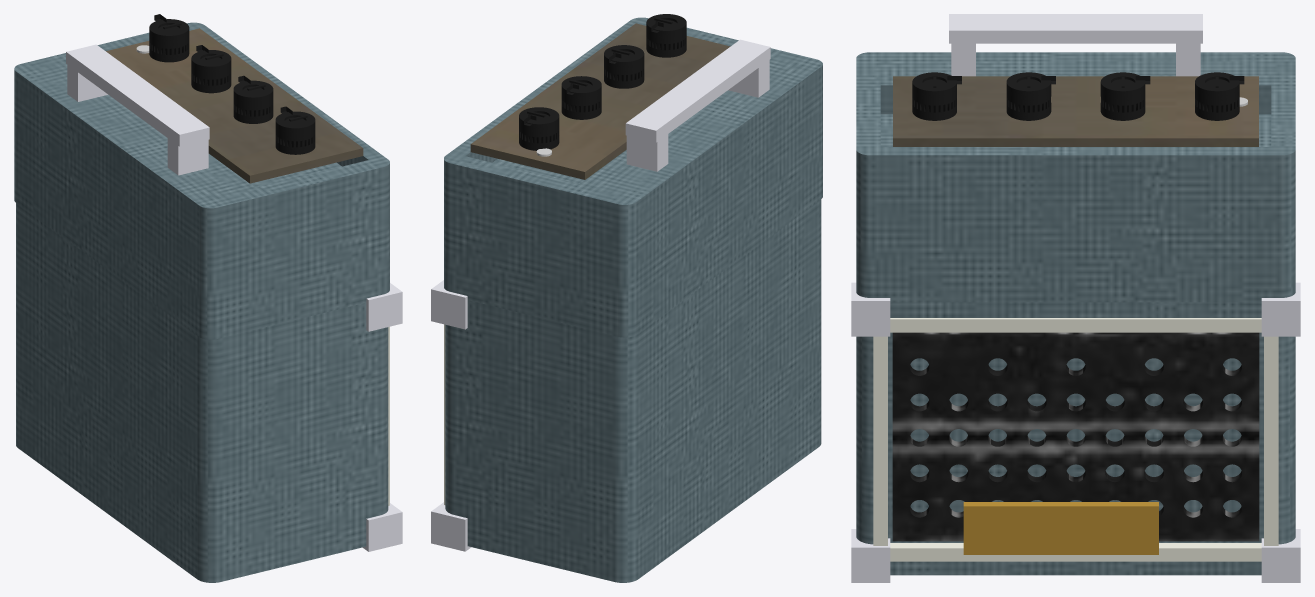
Rendered from Music_Amplifier__0051.glb.
3 views of the same model, side by side, from view 1: azimuth 30°, elevation 25°; view 2: azimuth 150°, elevation 25°; view 3: azimuth 270°, elevation 25° (orthographic). The views are drawn at different scales.
Visible parts, largest first — view 1: speaker_cabinet::cabinet_shell, head_box::head_shell, head_box::gold_panel, head_box::handle_strap, knob_1::knob_1, knob_0::knob_0, knob_3::knob_3, knob_2::knob_2, speaker_cabinet::corner_cap_0_0, speaker_cabinet::corner_cap_0_1, head_box::handle_leg_0, head_box::handle_leg_1; view 2: speaker_cabinet::cabinet_shell, head_box::head_shell, head_box::gold_panel, head_box::handle_strap, knob_0::knob_0, knob_1::knob_1, knob_2::knob_2, knob_3::knob_3, speaker_cabinet::corner_cap_1_0, head_box::handle_leg_1, speaker_cabinet::corner_cap_1_1, head_box::handle_leg_0; view 3: head_box::head_shell, speaker_cabinet::speaker_grille, speaker_cabinet::cabinet_shell, head_box::gold_panel, speaker_cabinet::marshall_logo, head_box::handle_strap, speaker_cabinet::piping_h_0, speaker_cabinet::piping_h_1, speaker_cabinet::piping_v_0, speaker_cabinet::piping_v_1, knob_2::knob_2, knob_1::knob_1 (+8 smaller).
Part boxes in pixels (<box>): speaker_cabinet::cabinet_shell: <box>16,203,388,582</box>; head_box::head_shell: <box>14,22,389,339</box>; head_box::gold_panel: <box>106,28,363,183</box>; head_box::handle_strap: <box>66,44,209,146</box>; knob_1::knob_1: <box>233,75,273,123</box>; knob_0::knob_0: <box>275,106,315,154</box>; knob_3::knob_3: <box>149,14,189,62</box>; knob_2::knob_2: <box>191,45,231,93</box>; speaker_cabinet::corner_cap_0_0: <box>362,503,402,551</box>; speaker_cabinet::corner_cap_0_1: <box>366,283,402,331</box>; head_box::handle_leg_0: <box>167,132,208,175</box>; head_box::handle_leg_1: <box>67,59,107,101</box>; speaker_cabinet::cabinet_shell: <box>445,199,821,582</box>; head_box::head_shell: <box>444,17,822,337</box>; head_box::gold_panel: <box>470,23,730,179</box>; head_box::handle_strap: <box>625,39,770,142</box>; knob_0::knob_0: <box>646,14,686,57</box>; knob_1::knob_1: <box>604,45,644,88</box>; knob_2::knob_2: <box>561,76,601,119</box>; knob_3::knob_3: <box>519,107,559,150</box>; speaker_cabinet::corner_cap_1_0: <box>431,502,471,551</box>; head_box::handle_leg_1: <box>626,128,668,171</box>; speaker_cabinet::corner_cap_1_1: <box>431,280,467,329</box>; head_box::handle_leg_0: <box>728,54,769,97</box>; head_box::head_shell: <box>856,52,1295,302</box>; speaker_cabinet::speaker_grille: <box>892,332,1259,541</box>; speaker_cabinet::cabinet_shell: <box>856,302,1295,575</box>; head_box::gold_panel: <box>893,76,1258,146</box>; speaker_cabinet::marshall_logo: <box>963,502,1158,554</box>; head_box::handle_strap: <box>949,14,1202,43</box>; speaker_cabinet::piping_h_0: <box>890,318,1261,332</box>; speaker_cabinet::piping_h_1: <box>890,543,1261,561</box>; speaker_cabinet::piping_v_0: <box>1264,336,1278,545</box>; speaker_cabinet::piping_v_1: <box>873,336,887,545</box>; knob_2::knob_2: <box>1100,72,1150,120</box>; knob_1::knob_1: <box>1006,72,1055,120</box>.
Bounding box in the file's own units: 0.1176 × 0.2429 × 0.21.
8 materials, 4 textured.
